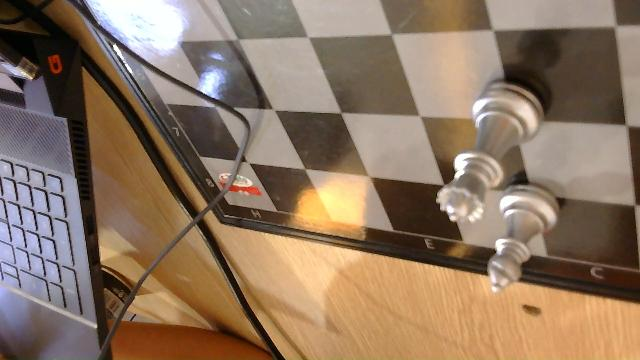white_bishop: (488, 183, 563, 295)
white_queen: (437, 78, 545, 225)
